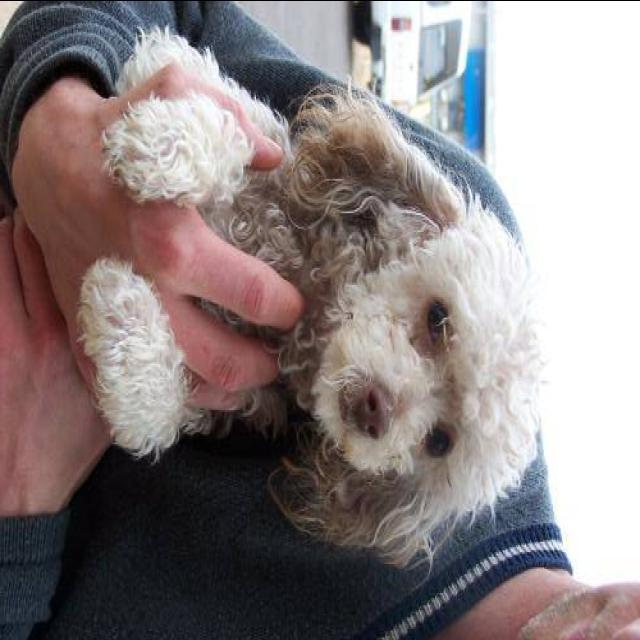dog: (64, 0, 564, 583)
